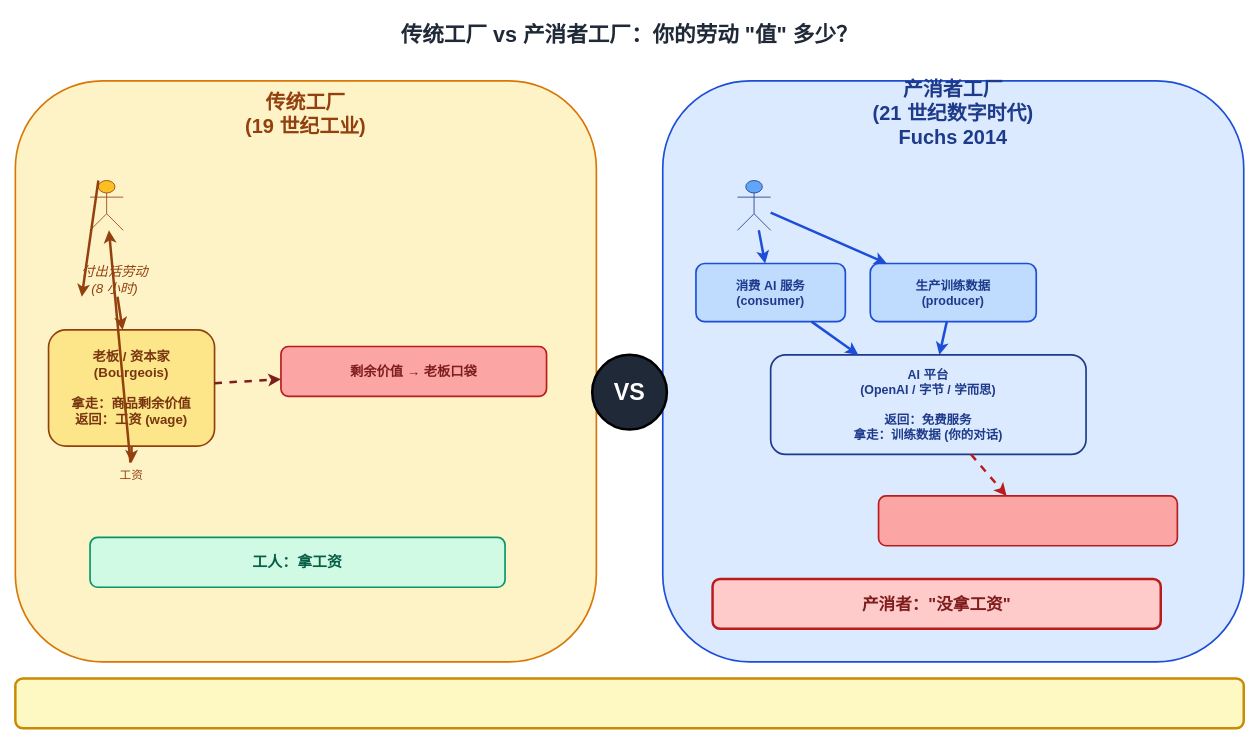
Some shapes in this 1259 by 744 pixel diagram are drawn without their labels. Each missing label, with the box of its shape:
关键洞察：两边都产生 "剩余价值"——但产消者 "没拿工资": (14, 677, 1245, 729)
工人 (Worker): (89, 180, 123, 230)
数据 = 新的剩余价值 (没有对应工资): (877, 495, 1178, 546)
用户 / 学生 (Prosumer): (737, 180, 771, 230)
